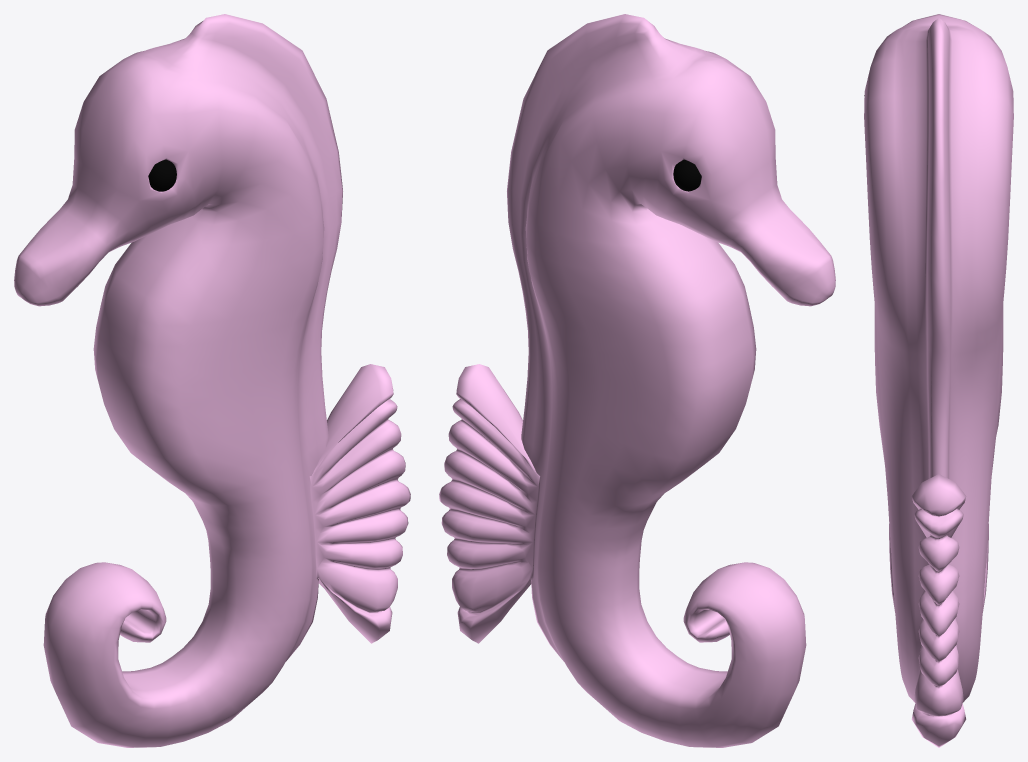
File: seahorse_uvMapped.fbx
The picture shows the model from 3 angles, left to right: view 1: azimuth 30°, elevation 25°; view 2: azimuth 150°, elevation 25°; view 3: azimuth 270°, elevation 25°; orthographic projection. The views are drawn at different scales.
Visible parts, largest first — view 1: seahorse_geo; view 2: seahorse_geo; view 3: seahorse_geo.
Part boxes in pixels (box(x1,y1,x2,y2)): seahorse_geo: box(14, 14, 410, 747); seahorse_geo: box(439, 14, 835, 747); seahorse_geo: box(864, 14, 1013, 747).
Size of the model in its own units: 6.21 by 10.81 by 2.1.
